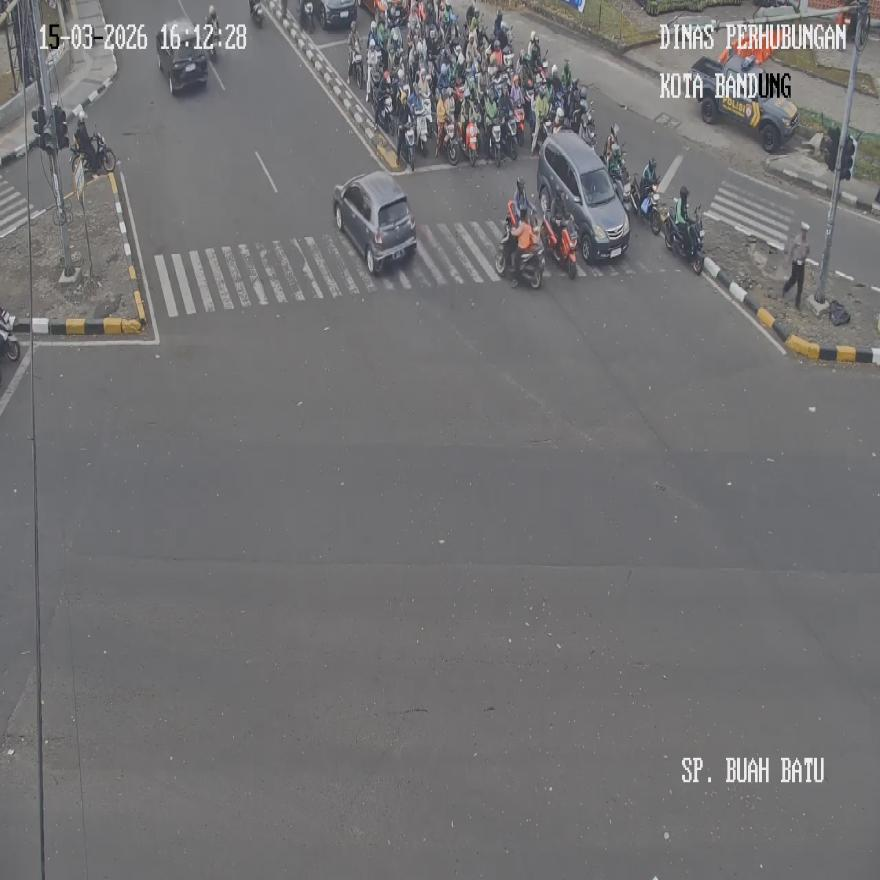Motor: (536, 128, 630, 264), (332, 170, 416, 275)
Truk: (496, 223, 544, 288), (663, 206, 704, 274), (543, 212, 578, 278), (71, 131, 115, 176), (628, 174, 660, 234), (606, 139, 628, 203), (0, 306, 20, 360), (397, 120, 415, 171), (530, 112, 550, 156), (442, 117, 460, 165), (501, 116, 519, 164), (576, 105, 596, 147), (348, 43, 364, 90), (377, 90, 393, 136), (202, 22, 220, 62), (464, 119, 479, 166), (415, 111, 429, 158), (489, 122, 502, 165), (300, 0, 316, 32), (250, 0, 264, 27)
